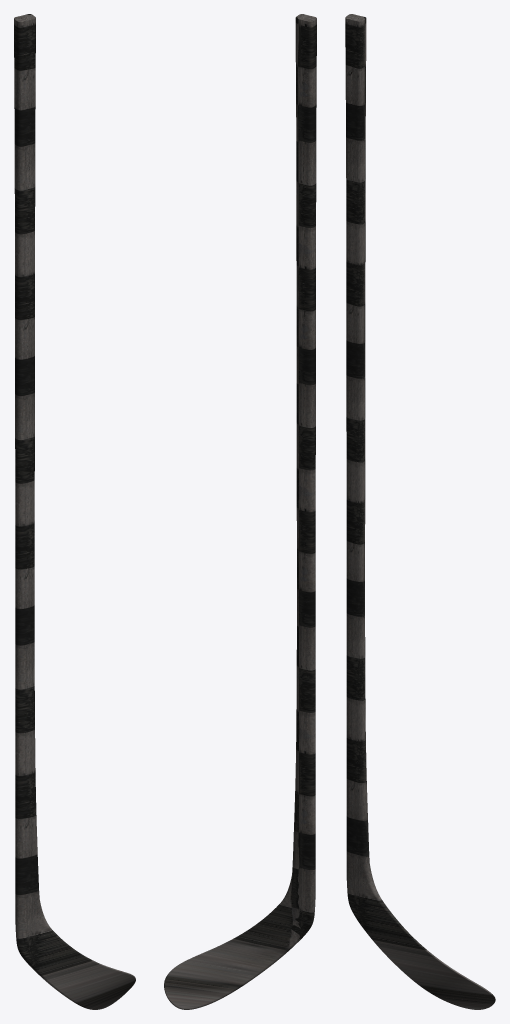
File: P37-SBO.glb
3 views of the same model, side by side, from view 1: azimuth 30°, elevation 25°; view 2: azimuth 150°, elevation 25°; view 3: azimuth 330°, elevation 25° (orthographic). The views are drawn at different scales.
Visible parts, largest first — view 1: geometry_0; view 2: geometry_0; view 3: geometry_0.
Boxes of the visible parts, bbox=[...] form: geometry_0: bbox=[14, 14, 135, 1009]; geometry_0: bbox=[164, 14, 316, 1009]; geometry_0: bbox=[345, 14, 495, 1009].
Bounding box in the file's own units: 229 × 1650 × 77.45.
1 material, 1 textured.
